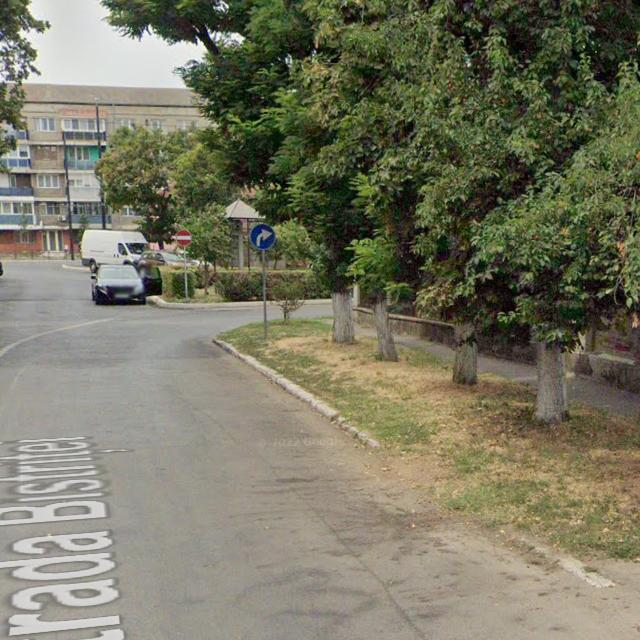forb_ahead: (174, 229, 192, 245)
mand_right: (250, 222, 276, 250)
